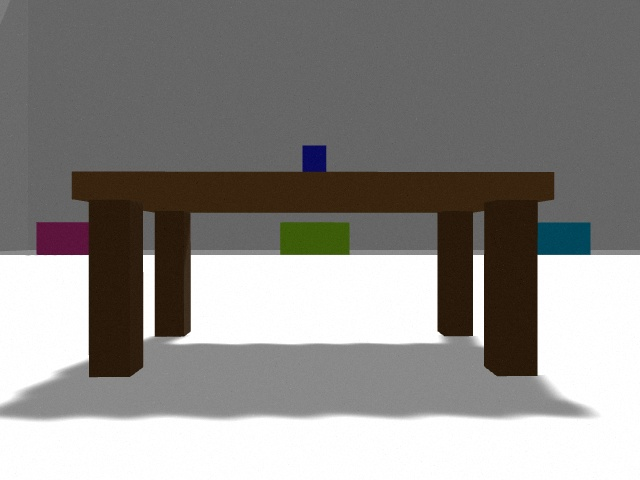blue_cube: (302, 145, 326, 171)
blue_drop_zone: (538, 222, 591, 255)
green_drop_zone: (280, 222, 350, 255)
red_drop_zone: (36, 222, 89, 255)
